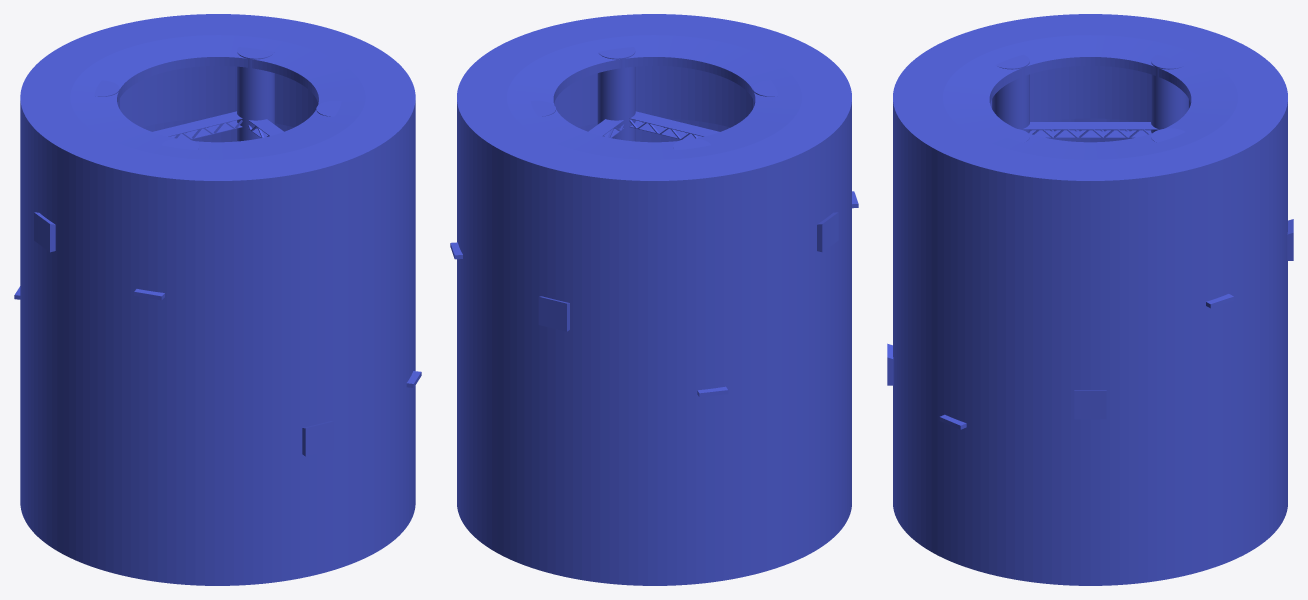
The model's file is BunkerFloor2.fbx.
3 renders of one model, left to right at view 1: azimuth 30°, elevation 25°; view 2: azimuth 150°, elevation 25°; view 3: azimuth 270°, elevation 25°, orthographic.
Visible parts, largest first — view 1: Bunker.312, Bunker.313, Bunker, Cube, Cube.003; view 2: Bunker.312, Bunker.315, Bunker, Cube.002, Cube.003; view 3: Bunker.312, Bunker.314, Bunker.316, Bunker, Cube.001.
Boxes of the visible parts, x1,y1,x2,y2 form: Bunker.312: (20,14,415,585); Bunker.313: (237,47,274,141); Bunker: (153,111,283,139); Cube: (302,421,333,456); Cube.003: (34,212,55,252); Bunker.312: (457,14,851,585); Bunker.315: (597,47,635,141); Bunker: (588,111,719,139); Cube.002: (538,296,569,331); Cube.003: (817,212,838,252); Bunker.312: (893,14,1287,585); Bunker.314: (1151,54,1188,133); Bunker.316: (992,54,1029,133); Bunker: (1022,122,1158,137); Cube.001: (1074,390,1106,419).
Bounding box in the file's own units: 20.71 × 22.76 × 20.71.
